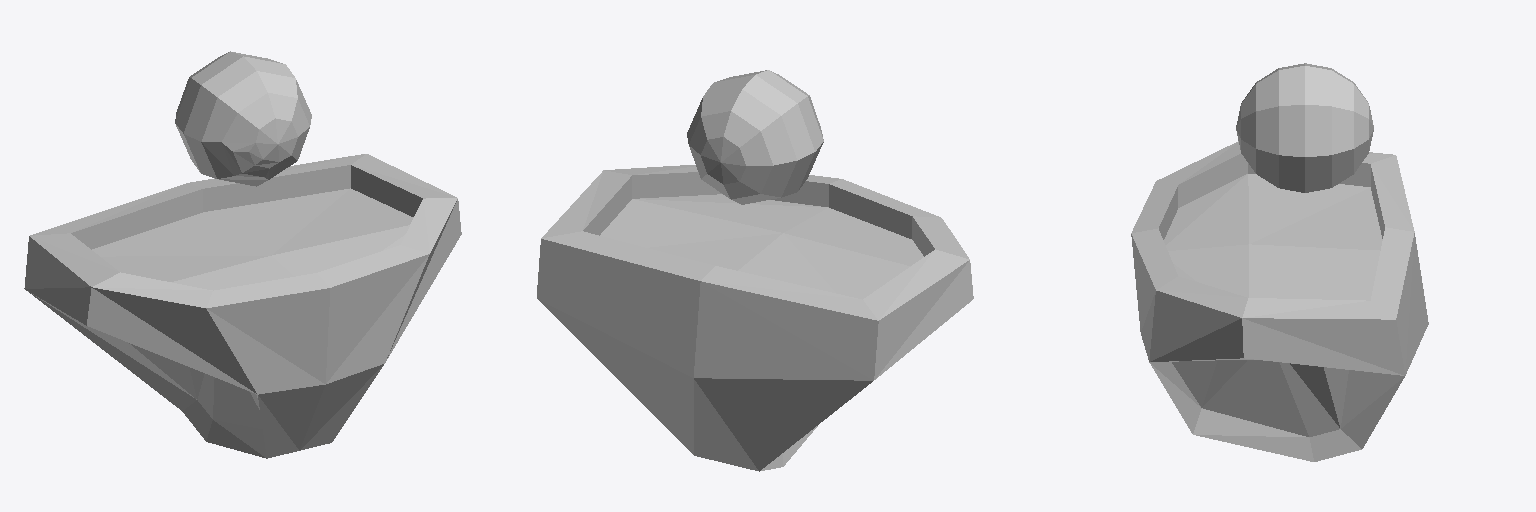
Rendered from pelvis.obj.
3 views of the same model, side by side, from view 1: azimuth 30°, elevation 25°; view 2: azimuth 150°, elevation 25°; view 3: azimuth 270°, elevation 25° (orthographic).
Visible parts, largest first — view 1: 1; view 2: 1; view 3: 1.
Part boxes in pixels (left/top/right/bottom): 1: left=24, top=51, right=461, bottom=458; 1: left=537, top=70, right=973, bottom=471; 1: left=1131, top=63, right=1428, bottom=461.
Bounding box in the file's own units: 0.2505 × 0.243 × 0.1721.